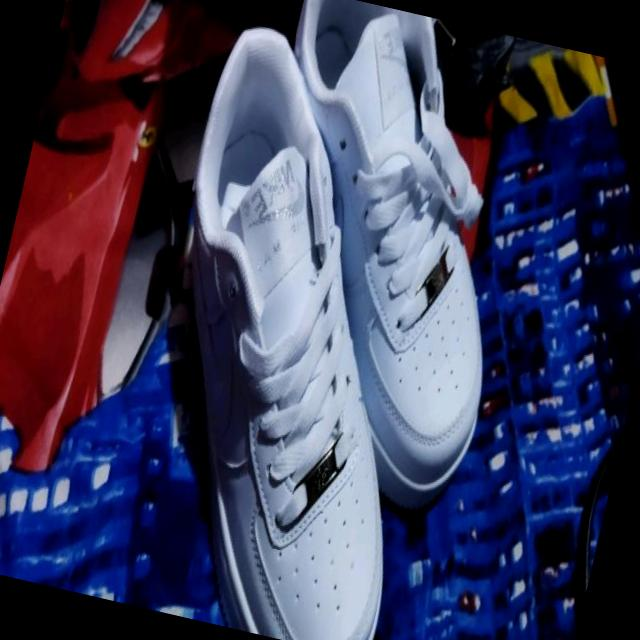nike_fake_airforce: (60, 8, 506, 640), (193, 0, 568, 519)
